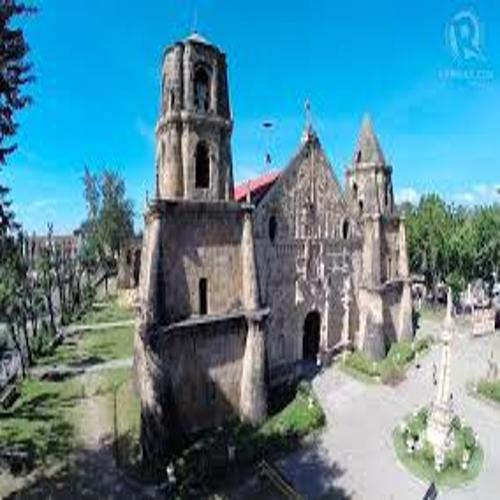Miagao Church: (143, 26, 423, 416)
